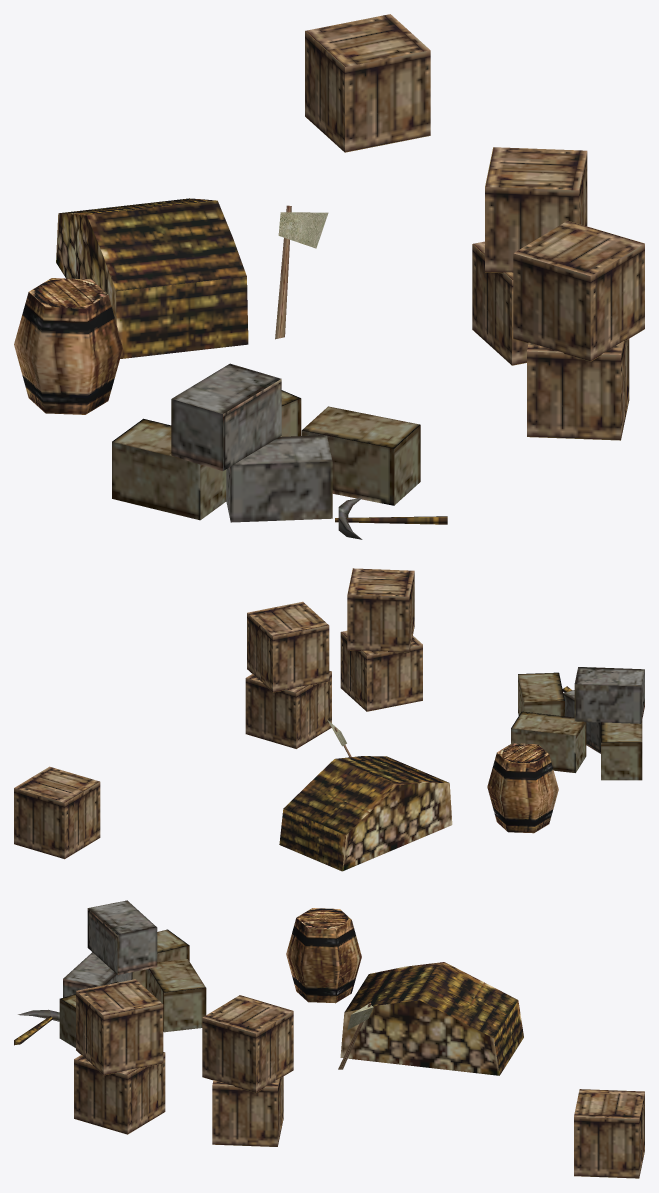
File: iber_storehouse_b.dae
3 renders of one model, top to bottom at view 1: azimuth 30°, elevation 25°; view 2: azimuth 150°, elevation 25°; view 3: azimuth 270°, elevation 25°, orthographic. The views are drawn at different scales.
Visible parts, largest first — view 1: axe02; view 2: axe02; view 3: axe02.
Boxes of the visible parts, <box> form: axe02: <box>14,14,644,539</box>; axe02: <box>14,568,644,871</box>; axe02: <box>14,900,644,1178</box>.
Size of the model in its own units: 11.33 by 14.42 by 3.04.
